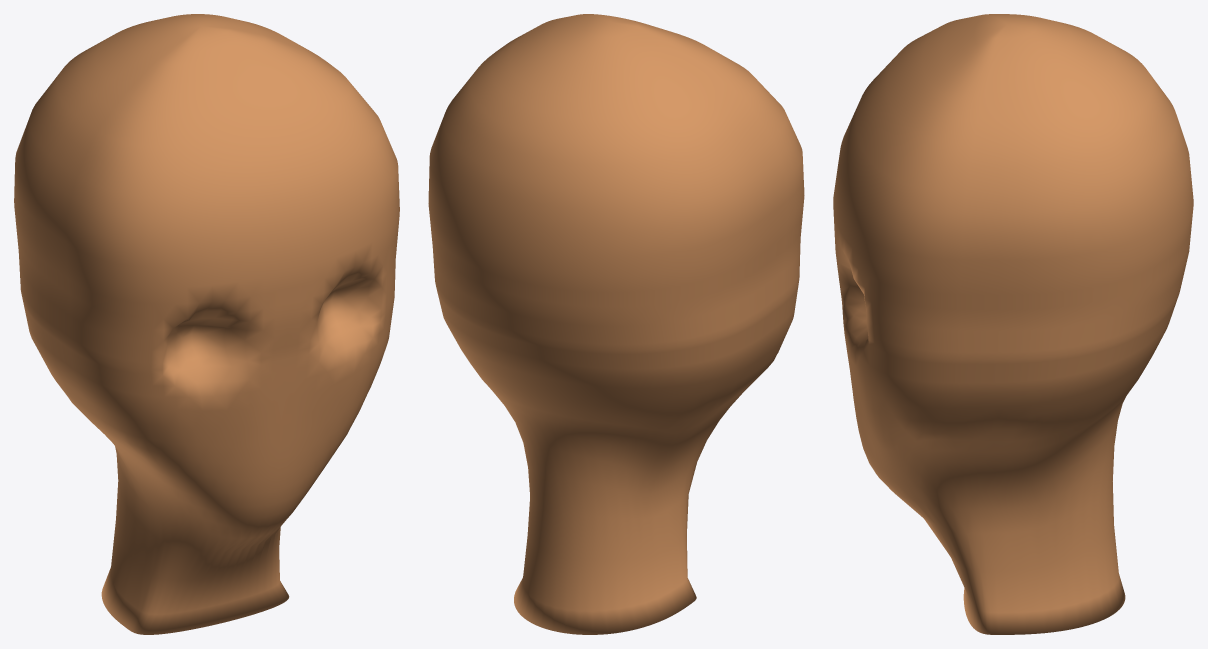
Rendered from base-feminina-04.glb.
3 views of the same model, side by side, from view 1: azimuth 30°, elevation 25°; view 2: azimuth 150°, elevation 25°; view 3: azimuth 270°, elevation 25° (orthographic). The views are drawn at different scales.
Parts seen in each view (by area): view 1: RCL_Base_Feminina_04; view 2: RCL_Base_Feminina_04; view 3: RCL_Base_Feminina_04.
Part boxes in pixels (x1,y1,x2,y2): RCL_Base_Feminina_04: (14,14,399,634); RCL_Base_Feminina_04: (428,14,804,634); RCL_Base_Feminina_04: (833,14,1193,634).
Bounding box in the file's own units: 0.174 × 0.305 × 0.174.
